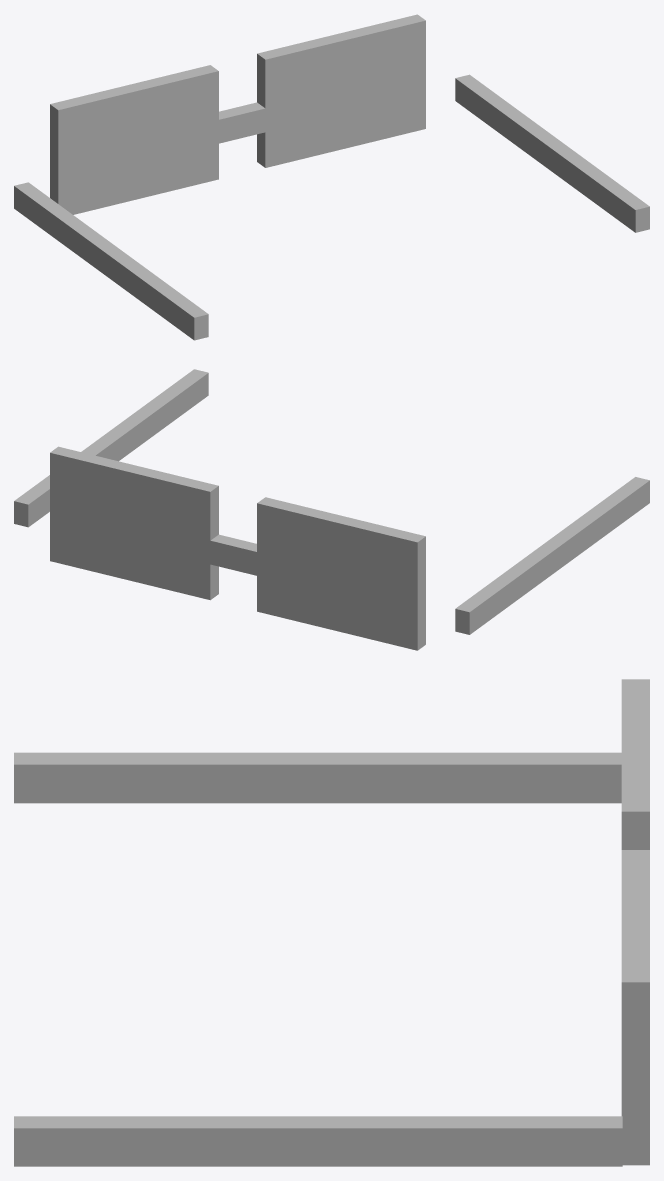
The model's file is head.obj.
3 renders of one model, top to bottom at view 1: azimuth 30°, elevation 25°; view 2: azimuth 150°, elevation 25°; view 3: azimuth 270°, elevation 25°, orthographic. The views are drawn at different scales.
Parts seen in each view (by area): view 1: left_rim, right_rim, right_temple, left_temple, bridge; view 2: right_rim, left_rim, right_temple, left_temple, bridge; view 3: right_temple, left_temple, left_rim, right_rim.
Part boxes in pixels (<box>): left_rim: <box>257,14,425,167</box>; right_rim: <box>50,65,218,214</box>; right_temple: <box>14,182,208,340</box>; left_temple: <box>455,74,649,232</box>; bridge: <box>216,102,266,143</box>; right_rim: <box>257,497,425,650</box>; left_rim: <box>50,446,218,600</box>; right_temple: <box>455,477,649,634</box>; left_temple: <box>14,369,208,527</box>; bridge: <box>208,534,259,576</box>; right_temple: <box>14,752,621,803</box>; left_temple: <box>14,1116,622,1166</box>; left_rim: <box>621,850,649,1165</box>; right_rim: <box>621,679,649,849</box>.
Size of the model in its own units: 8.8 by 2 by 6.3.
